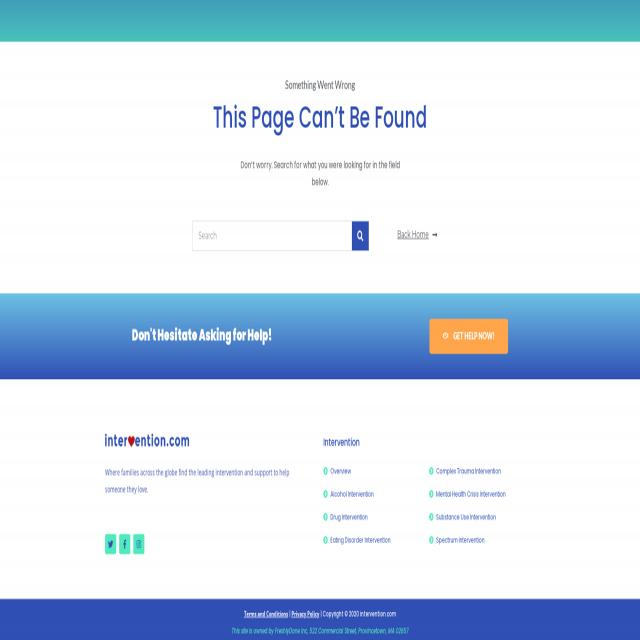button: (429, 318, 508, 354), (105, 433, 189, 447), (352, 222, 369, 250), (119, 534, 131, 554), (105, 534, 116, 554), (134, 534, 144, 554)
field: (192, 222, 352, 250)
